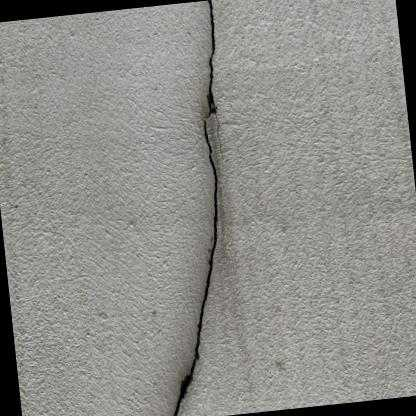crack: (171, 0, 217, 416)
